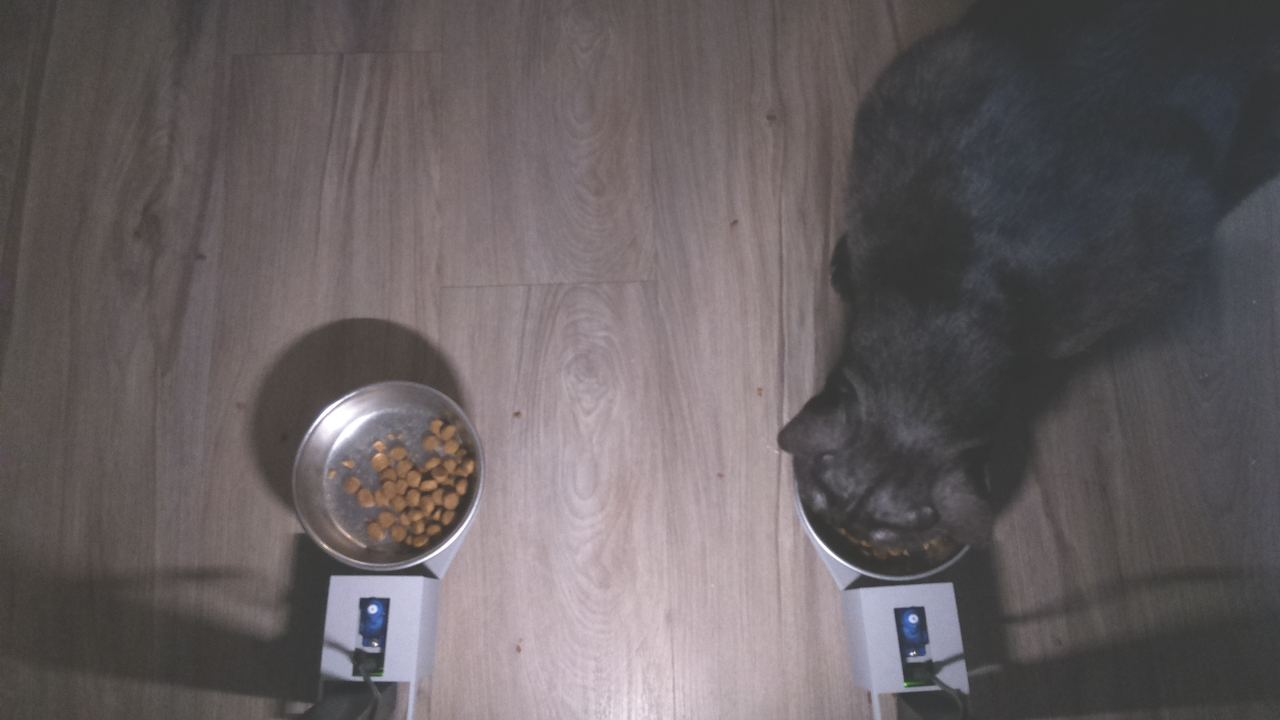open_bowl: (290, 377, 483, 578)
saki_eating: (772, 349, 1039, 583)
